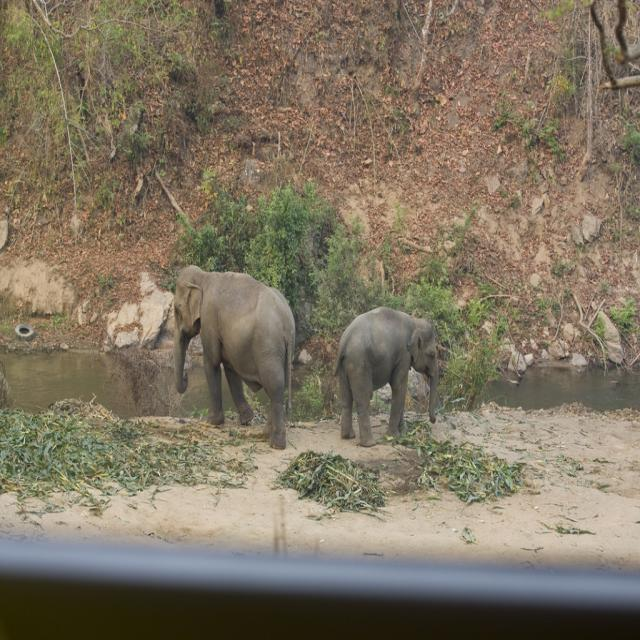elephant: (162, 260, 312, 442), (333, 299, 443, 450)
